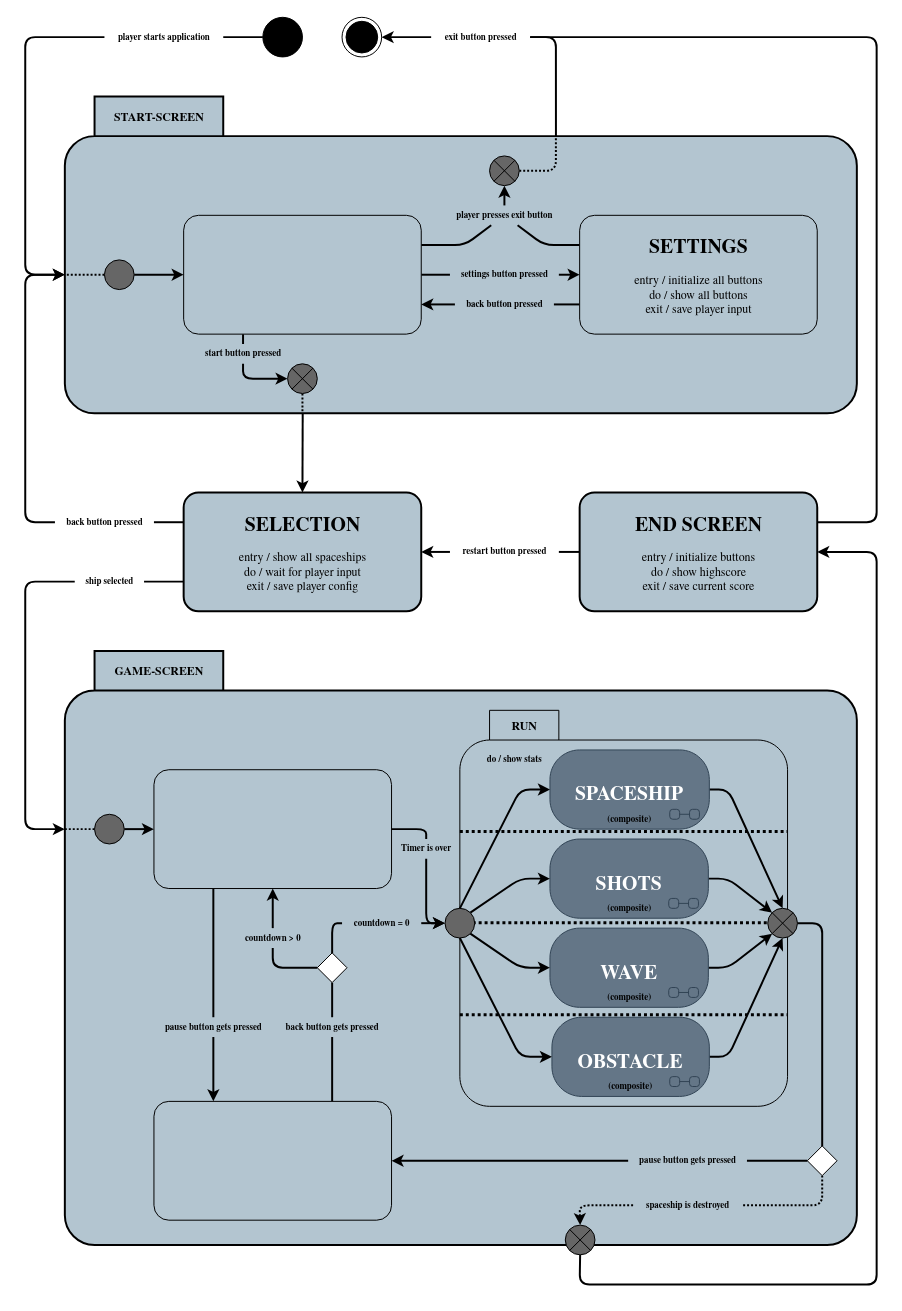
This 902x1311 diagram has some shape labels left out. Here are the shapes that lost their labels. From the top down, the centre of each, then its label:
At [302,274]: "START entry / initialize all buttons do / wait for player input".
At [272,829]: "COUNTDOWN entry / start Timer do / wait for Timer exit / play start sound".
At [272,1160]: "PAUSE entry / initialize buttons do / wait for player input".
